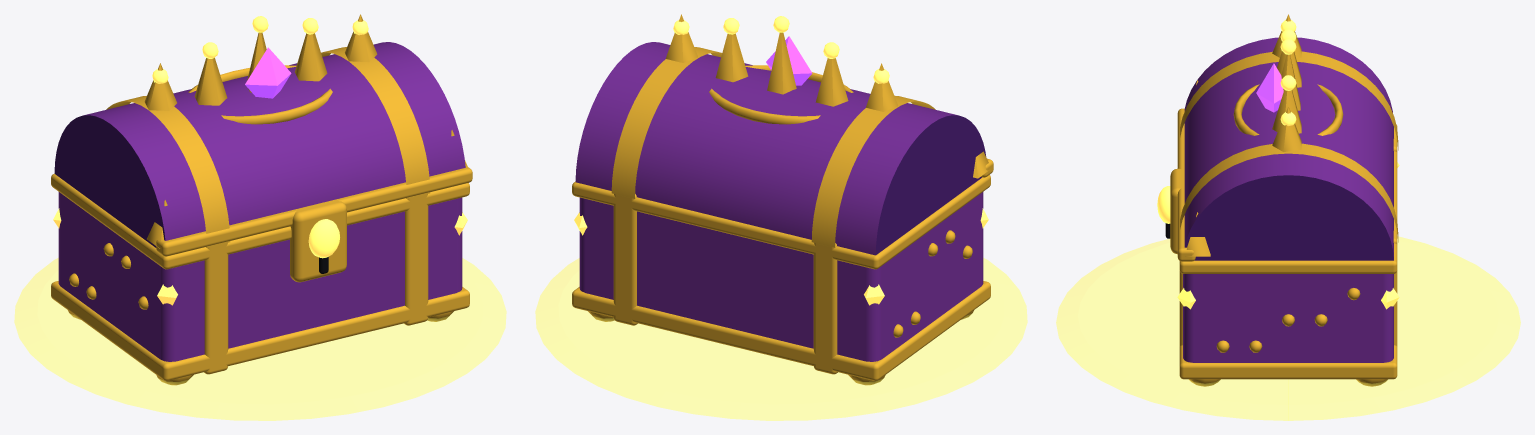
File: chest_legendary.glb
The picture shows the model from 3 angles, left to right: view 1: azimuth 30°, elevation 25°; view 2: azimuth 150°, elevation 25°; view 3: azimuth 270°, elevation 25°; orthographic projection. The views are drawn at different scales.
Visible parts, largest first — view 1: LidBarrel, GroundGlow, Base, LidCap-1, BaseRim, BaseTopRim, LidFrontRim, LidBand-1, LidBand1, LockPlate, Band-1, Band1 (+7 smaller); view 2: LidBarrel, Base, GroundGlow, LidCap-1, BaseRim, BaseTopRim, LidBand-1, LidBand1, Band1, Band-1, LidRing, Crest2 (+5 smaller); view 3: GroundGlow, LidBarrel, Base, LidCap1, BaseRim, BaseTopRim, LidBand1, LidBand-1, LidFrontRim, LidRing, CrestGem, LockPlate (+4 smaller).
Part boxes in pixels (<box>): LidBarrel: <box>83,42,465,240</box>; GroundGlow: <box>14,258,506,420</box>; Base: <box>58,192,462,361</box>; LidCap-1: <box>54,115,165,247</box>; BaseRim: <box>51,281,469,380</box>; BaseTopRim: <box>51,173,469,269</box>; LidFrontRim: <box>156,166,472,256</box>; LidBand-1: <box>106,96,230,247</box>; LidBand1: <box>321,47,430,198</box>; LockPlate: <box>290,200,346,282</box>; Band-1: <box>204,243,228,374</box>; Band1: <box>404,194,428,325</box>; LidBarrel: <box>575,42,958,255</box>; Base: <box>579,192,983,361</box>; GroundGlow: <box>535,258,1027,420</box>; LidCap-1: <box>875,115,986,254</box>; BaseRim: <box>572,281,990,380</box>; BaseTopRim: <box>572,175,990,269</box>; LidBand-1: <box>811,95,935,247</box>; LidBand1: <box>611,47,722,198</box>; Band1: <box>613,194,637,325</box>; Band-1: <box>813,243,837,374</box>; LidRing: <box>709,65,853,124</box>; Crest2: <box>767,32,796,94</box>; GroundGlow: <box>1056,236,1520,420</box>; LidBarrel: <box>1184,37,1393,260</box>; Base: <box>1183,274,1393,362</box>; LidCap1: <box>1184,175,1393,260</box>; BaseRim: <box>1179,345,1397,379</box>; BaseTopRim: <box>1179,124,1397,273</box>; LidBand1: <box>1180,143,1398,242</box>; LidBand-1: <box>1180,51,1398,150</box>; LidFrontRim: <box>1177,108,1195,261</box>; LidRing: <box>1233,84,1343,135</box>; CrestGem: <box>1256,63,1283,112</box>; LockPlate: <box>1170,168,1181,254</box>.
Size of the model in its own units: 1.28 by 0.866 by 1.28.
